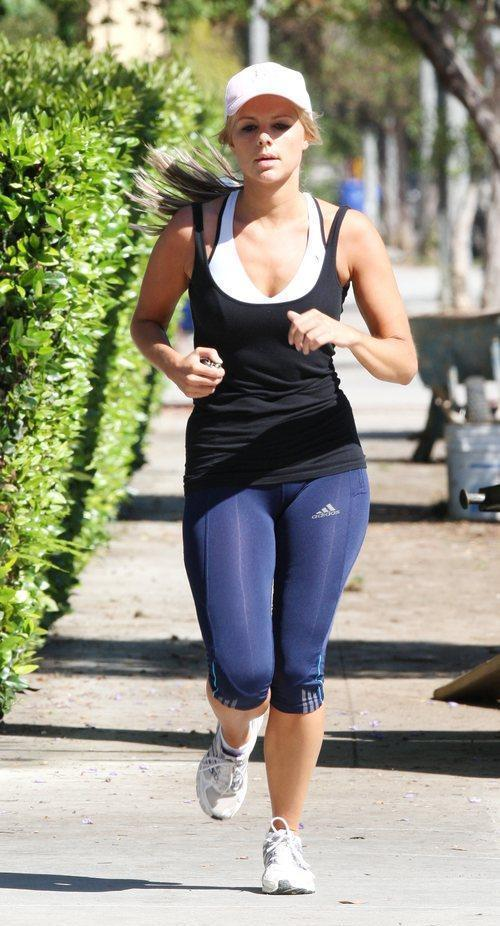person: (129, 64, 418, 904)
